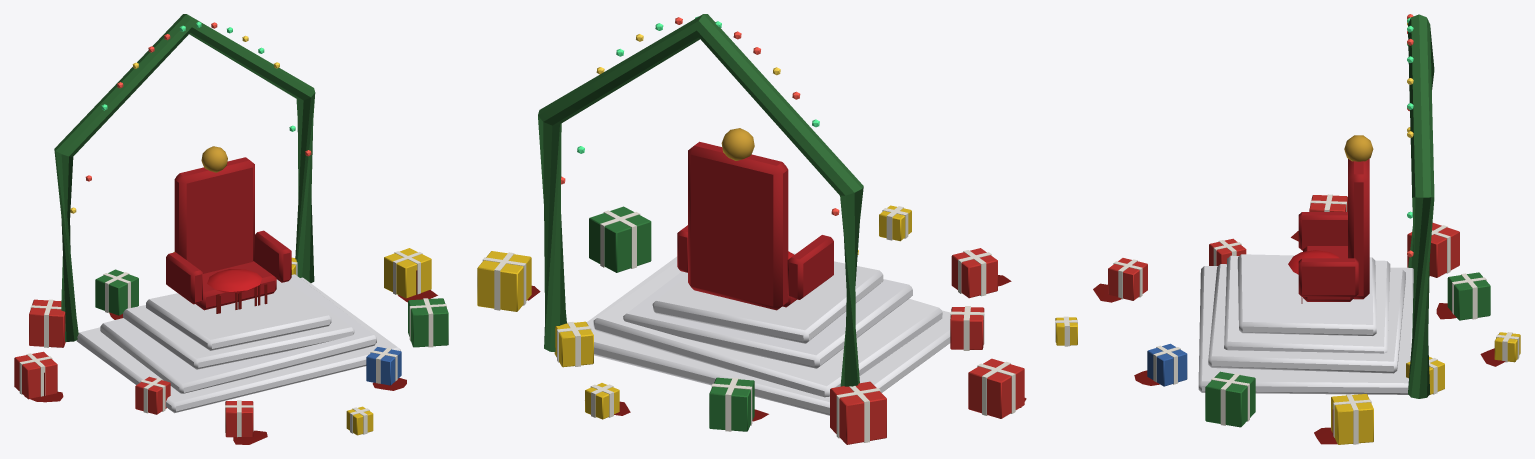
The model's file is santa_throne.glb.
3 renders of one model, left to right at view 1: azimuth 30°, elevation 25°; view 2: azimuth 150°, elevation 25°; view 3: azimuth 270°, elevation 25°, orthographic. The views are drawn at different scales.
Parts seen in each view (by area): view 1: santa_throne; view 2: santa_throne; view 3: santa_throne.
Boxes of the visible parts, left/top/right/bottom form: santa_throne: left=14, top=14, right=448, bottom=444; santa_throne: left=477, top=14, right=1026, bottom=444; santa_throne: left=1055, top=14, right=1520, bottom=444.
Bounding box in the file's own units: 12.03 × 8.3 × 10.82.
